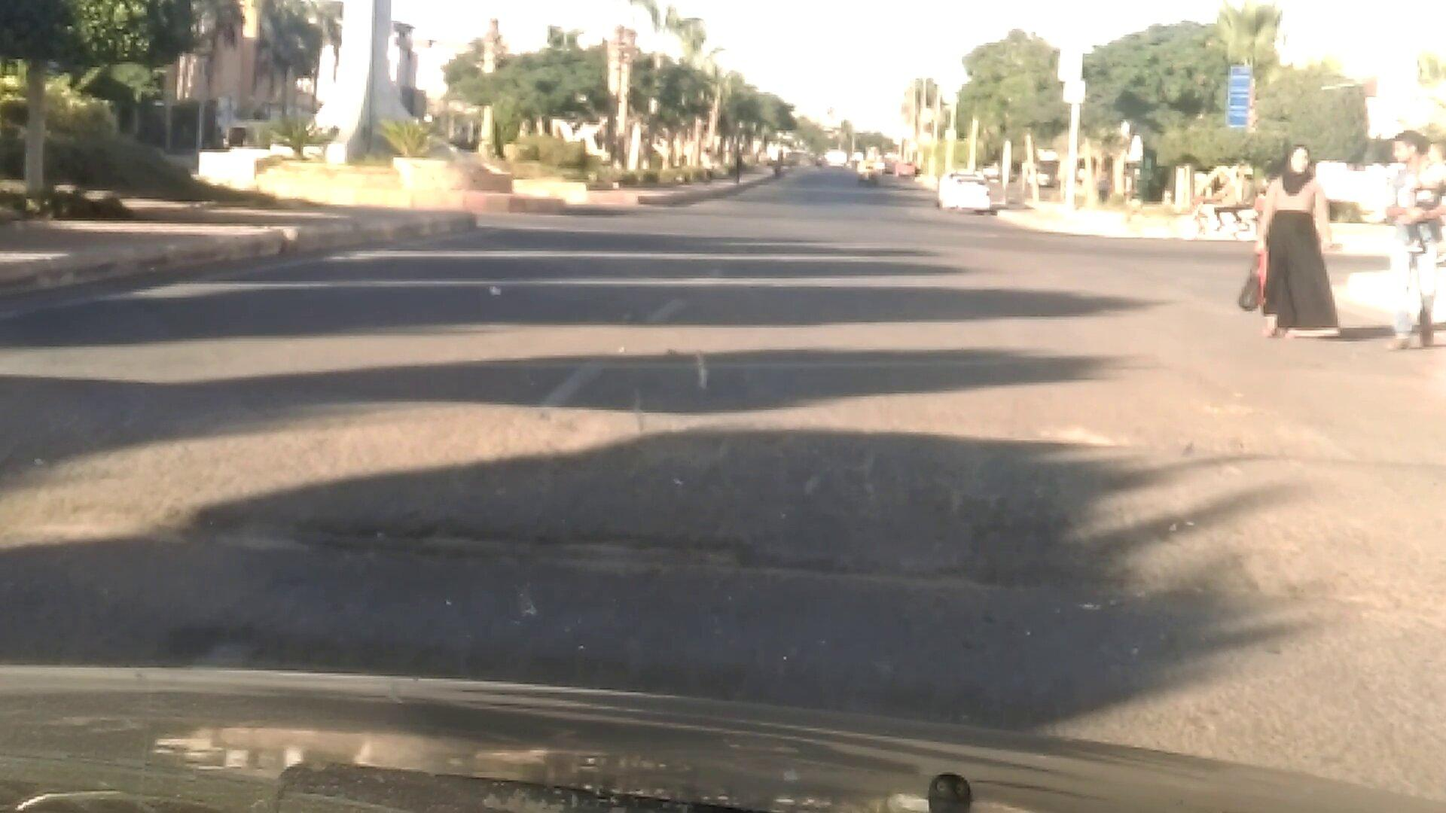Pothole: (188, 493, 1052, 629)
